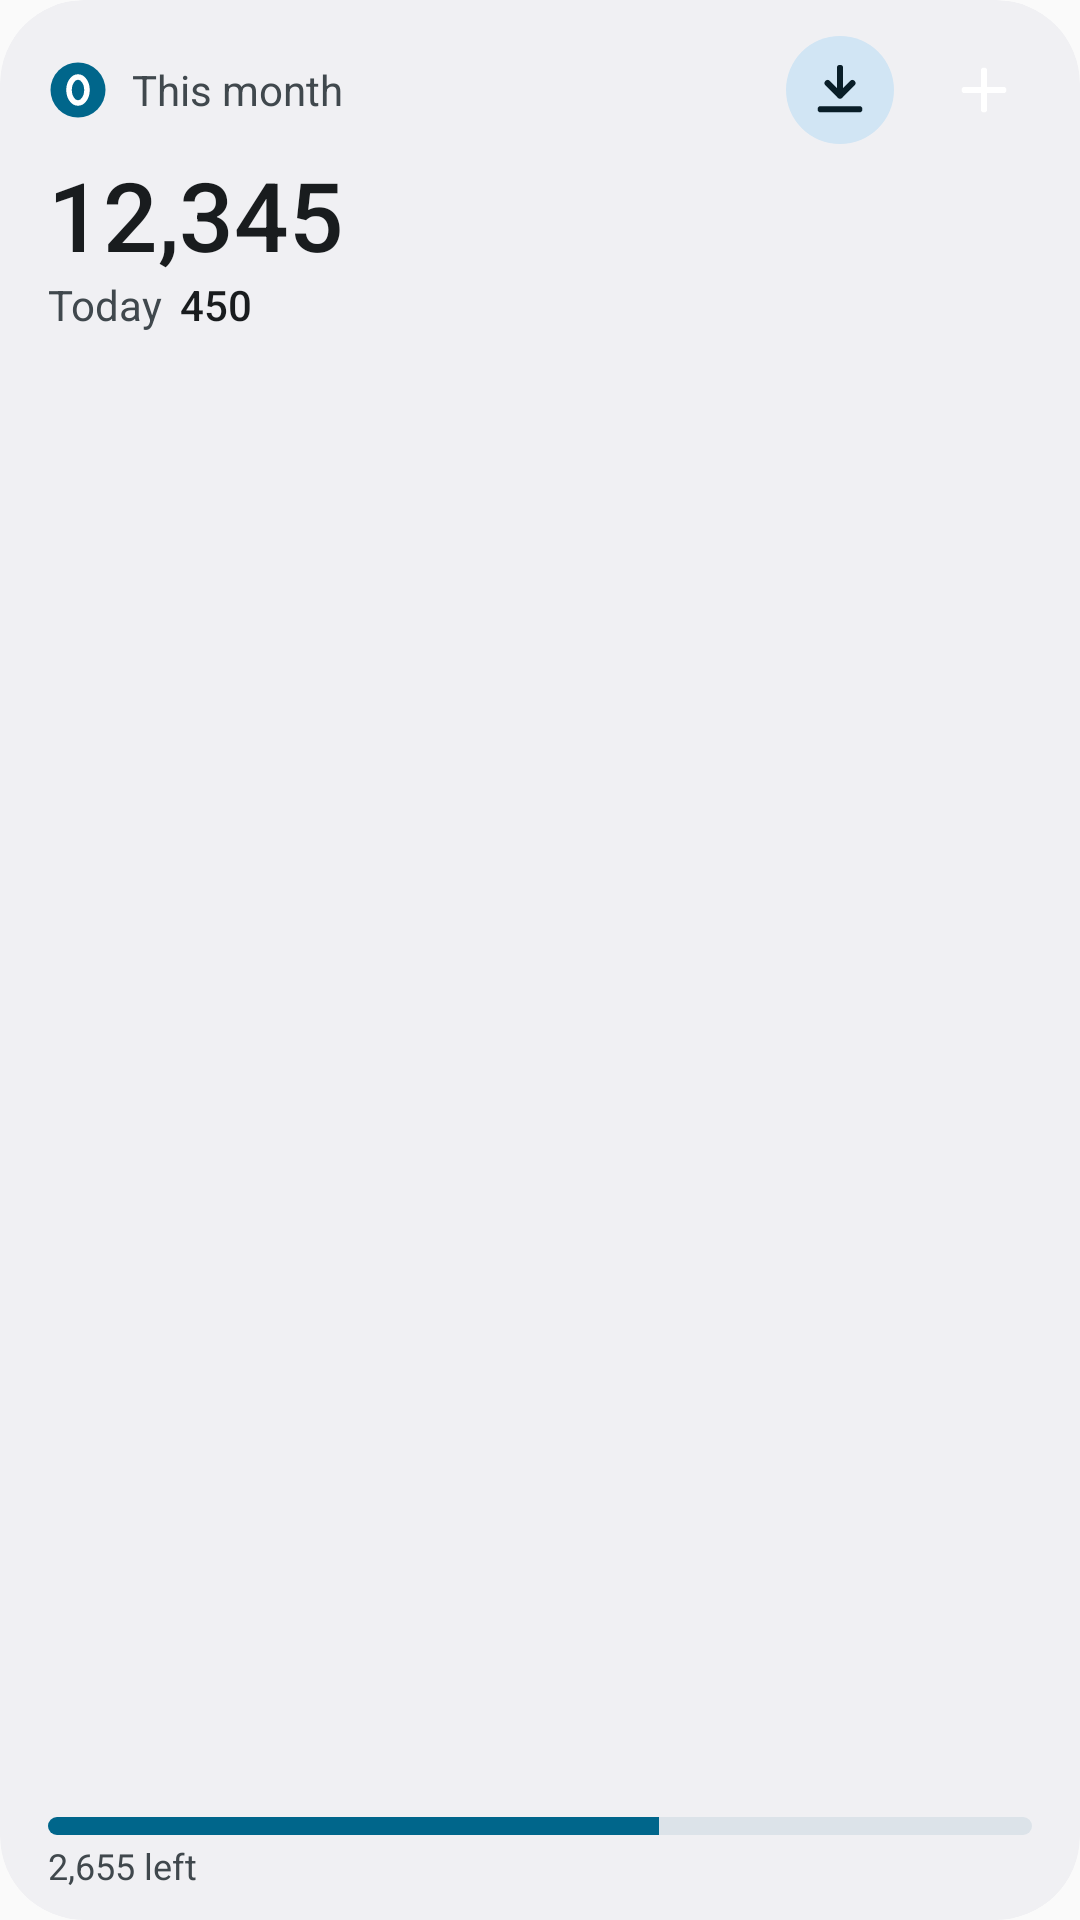

Named icons in this screenshot (1080px×1920px) and their bounding boxes, (x1, y1, x2, y2):
widget income: (786, 36, 894, 144)
